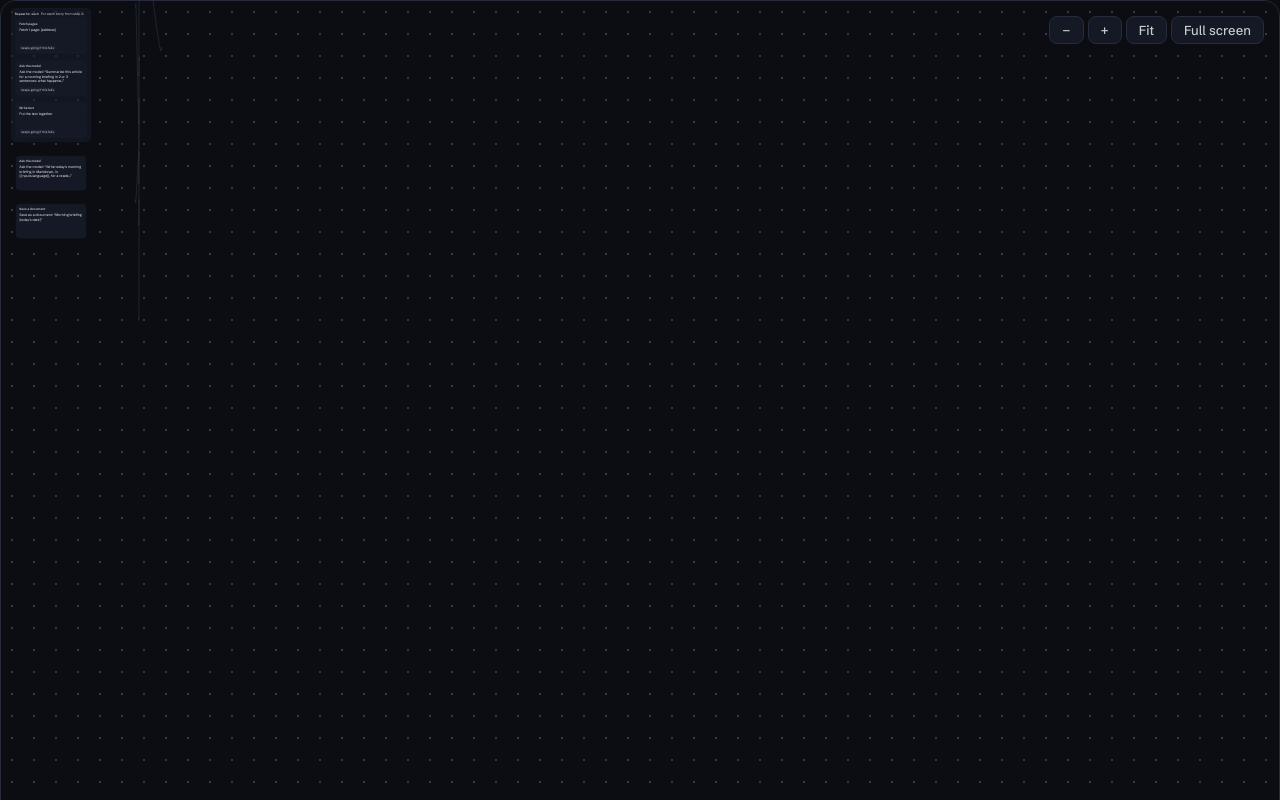
Test: WorkflowCanvas › shows what a selected step uses, and asks for a run to show more
The image size is (1280, 800).
Click the element named "Ask the model: Ask the model: “Write today's morning briefin". click: {"x": 51, "y": 173}
box: top-left (16, 156), bottom-right (86, 190)
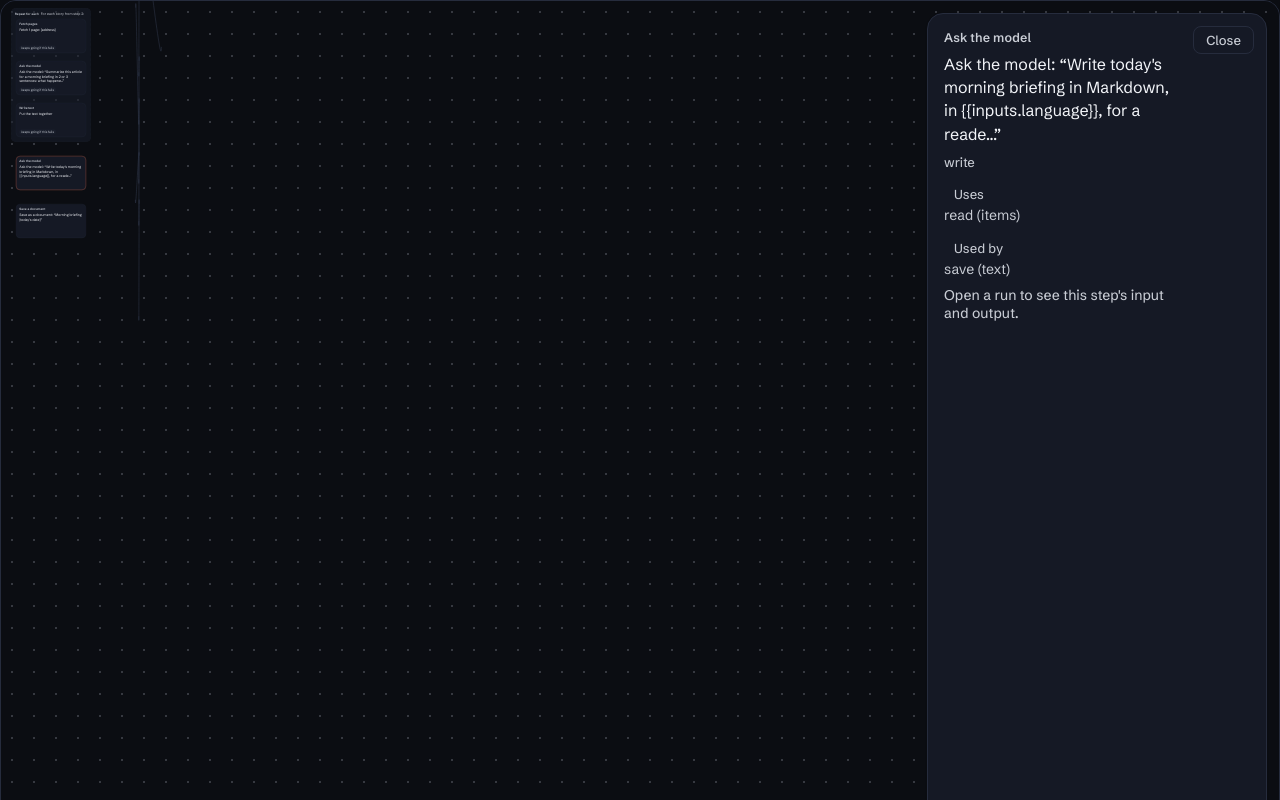
Expected: the text "read (items)" is shown, top-left (944, 206), bottom-right (1020, 224)
Expected: the text "Used by" is shown, top-left (954, 240), bottom-right (1003, 256)
Expected: the text "save (text)" is shown, top-left (944, 260), bottom-right (1010, 278)
